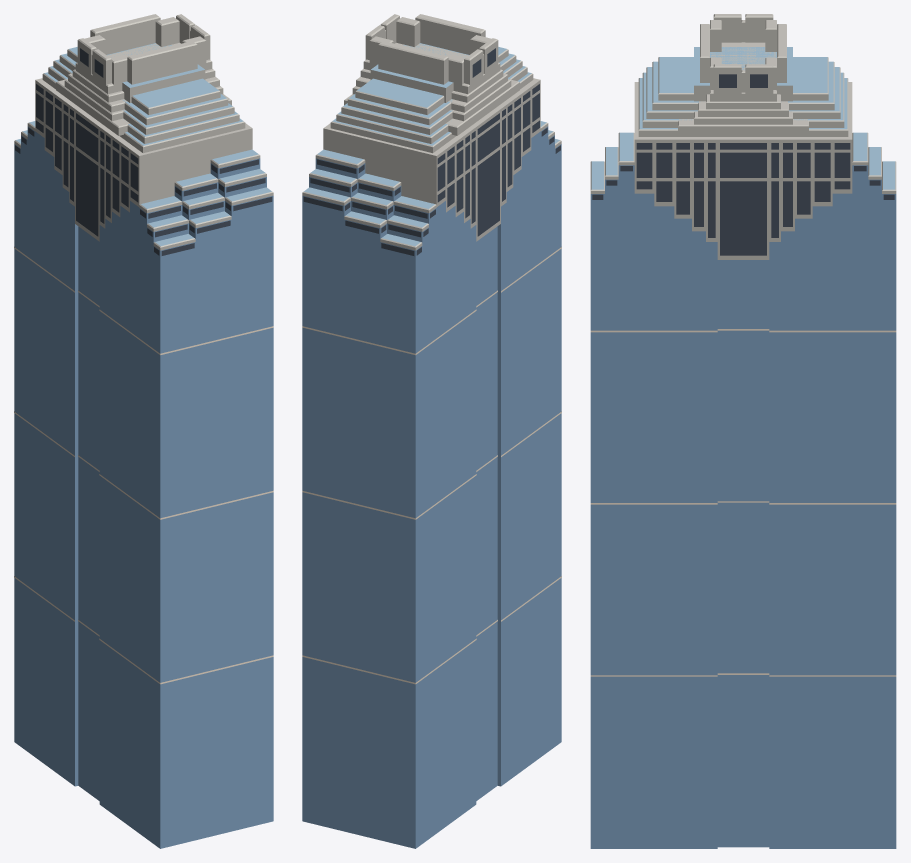
The model's file is hou-heritage-plaza.glb.
3 views of the same model, side by side, from view 1: azimuth 30°, elevation 25°; view 2: azimuth 150°, elevation 25°; view 3: azimuth 270°, elevation 25° (orthographic). The views are drawn at different scales.
Parts seen in each view (by area): view 1: Heritage Plaza; view 2: Heritage Plaza; view 3: Heritage Plaza.
Boxes of the visible parts, x1,y1,x2,y2 form: Heritage Plaza: [14, 14, 273, 848]; Heritage Plaza: [302, 14, 561, 848]; Heritage Plaza: [590, 14, 896, 848].
Size of the model in its own units: 34.7 by 217 by 77.3.
